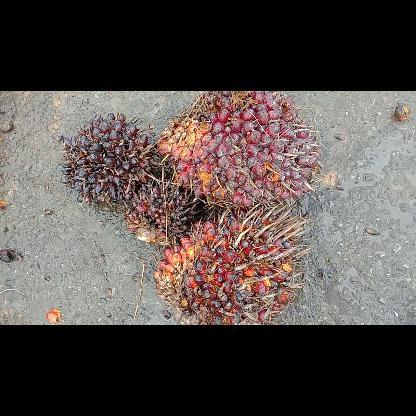TBS abnormal: (58, 110, 160, 207), (124, 181, 196, 247)
TBS masak: (155, 92, 324, 210), (152, 204, 314, 324)
